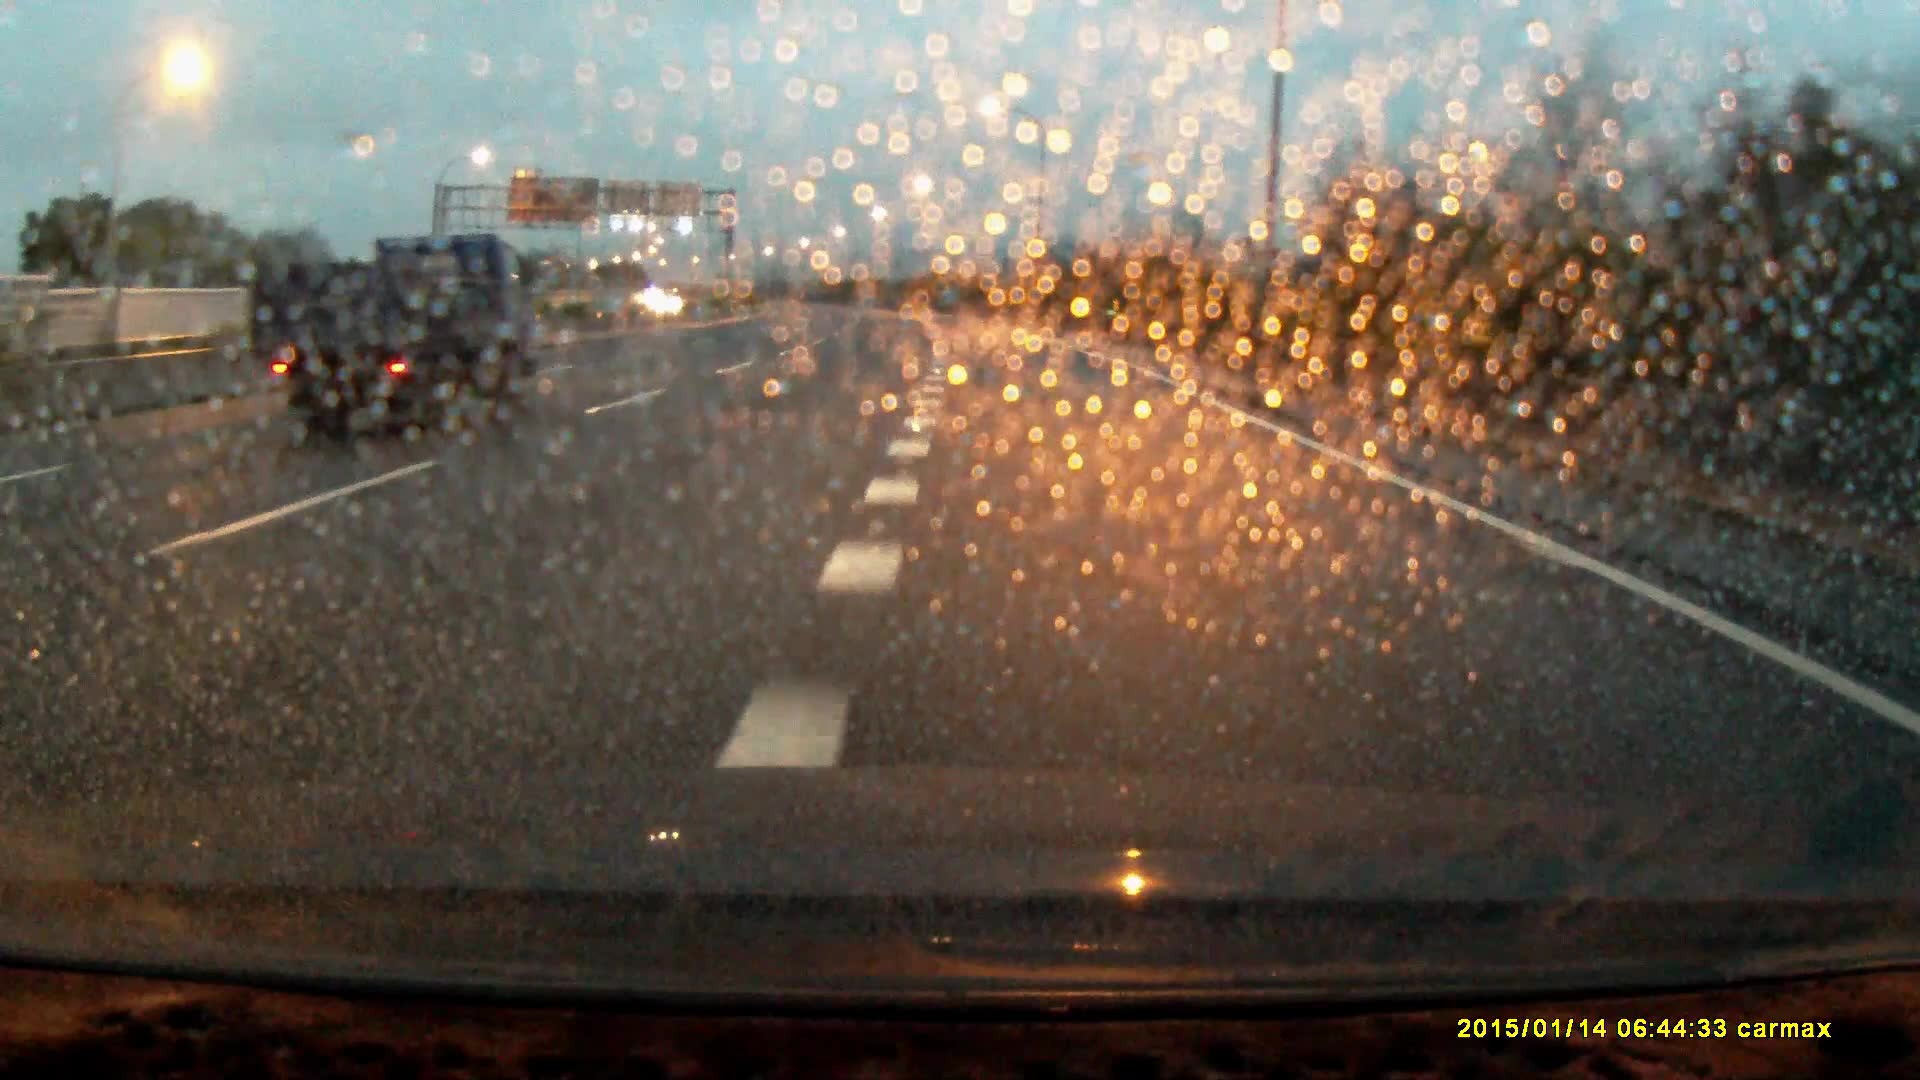vehicle: (257, 236, 521, 448)
